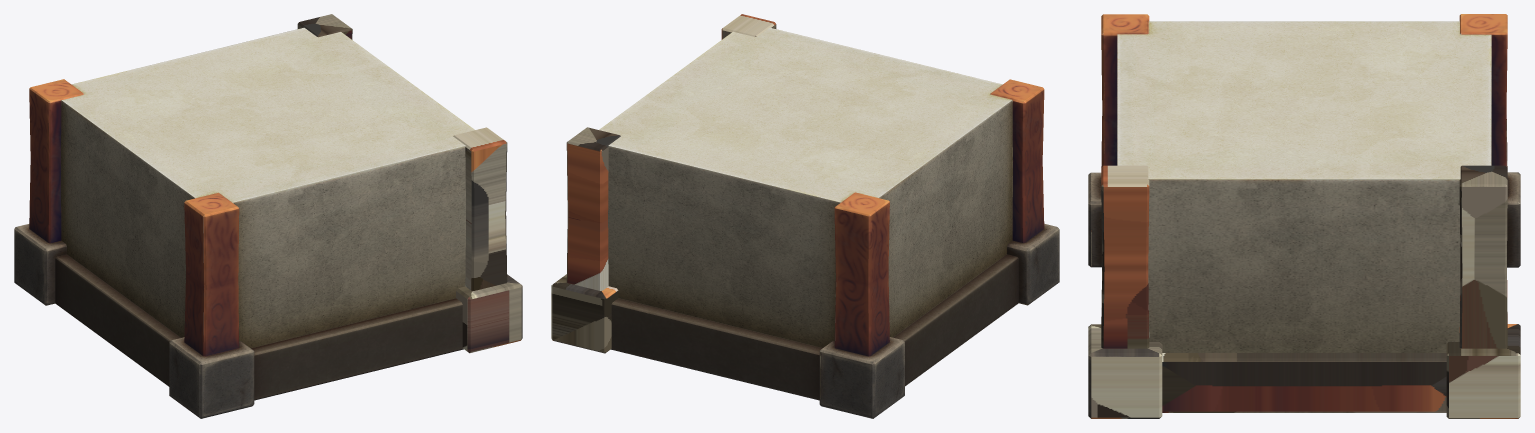
File: BaseLower.dae
The picture shows the model from 3 angles, left to right: view 1: azimuth 30°, elevation 25°; view 2: azimuth 150°, elevation 25°; view 3: azimuth 270°, elevation 25°; orthographic projection. The views are drawn at different scales.
Parts seen in each view (by area): view 1: Cube_100; view 2: Cube_100; view 3: Cube_100.
Boxes of the visible parts, <box> form: Cube_100: <box>14,14,522,418</box>; Cube_100: <box>551,14,1059,418</box>; Cube_100: <box>1088,14,1520,418</box>.
Bounding box in the file's own units: 6.86 × 6.85 × 4.01.
1 material, 1 textured.
